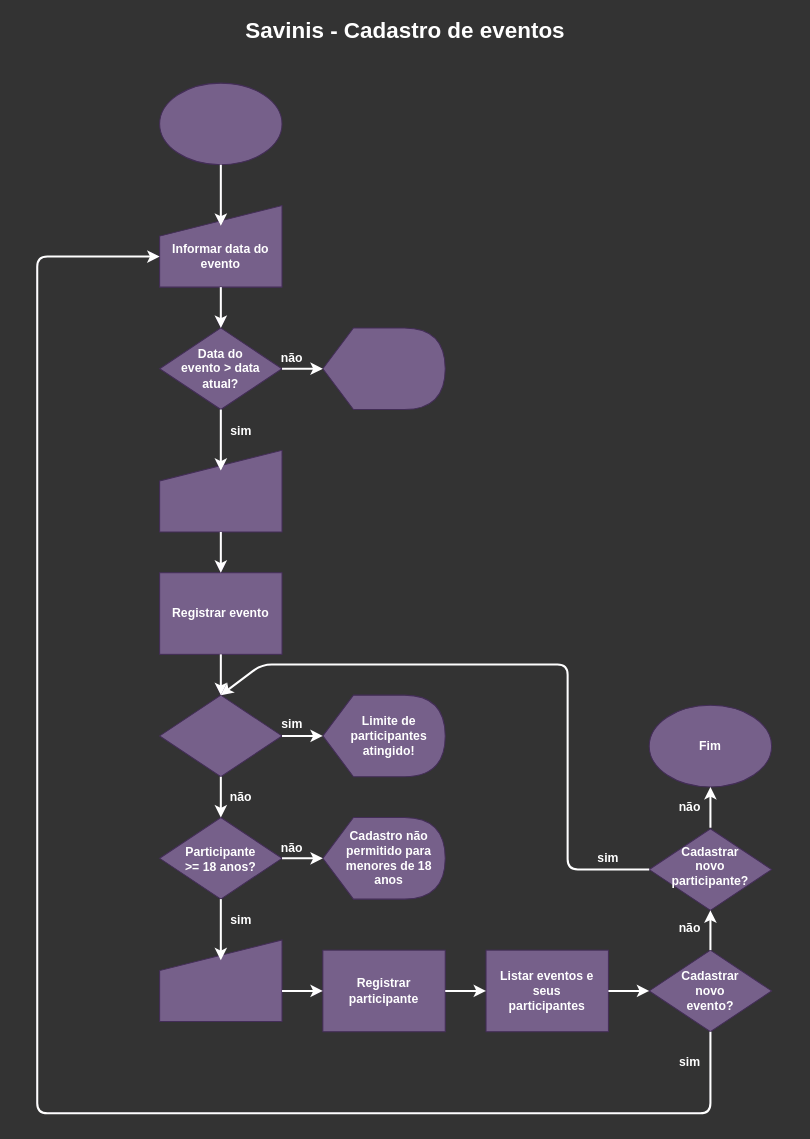
Image size: 810x1139. Some labels were removed from this diagram. Each missing label, with the box of its shape:
+100 participantes cadastrados?: (159, 694, 282, 777)
Data inválida!: (322, 327, 445, 410)
Informar nome do participante: (159, 939, 282, 1022)
Informar título do evento: (159, 449, 282, 532)
Início: (159, 82, 282, 165)
